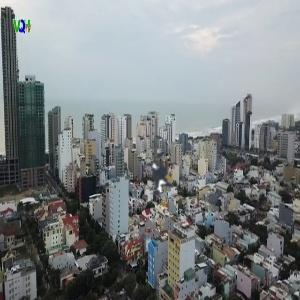drone: (117, 131, 206, 220)
